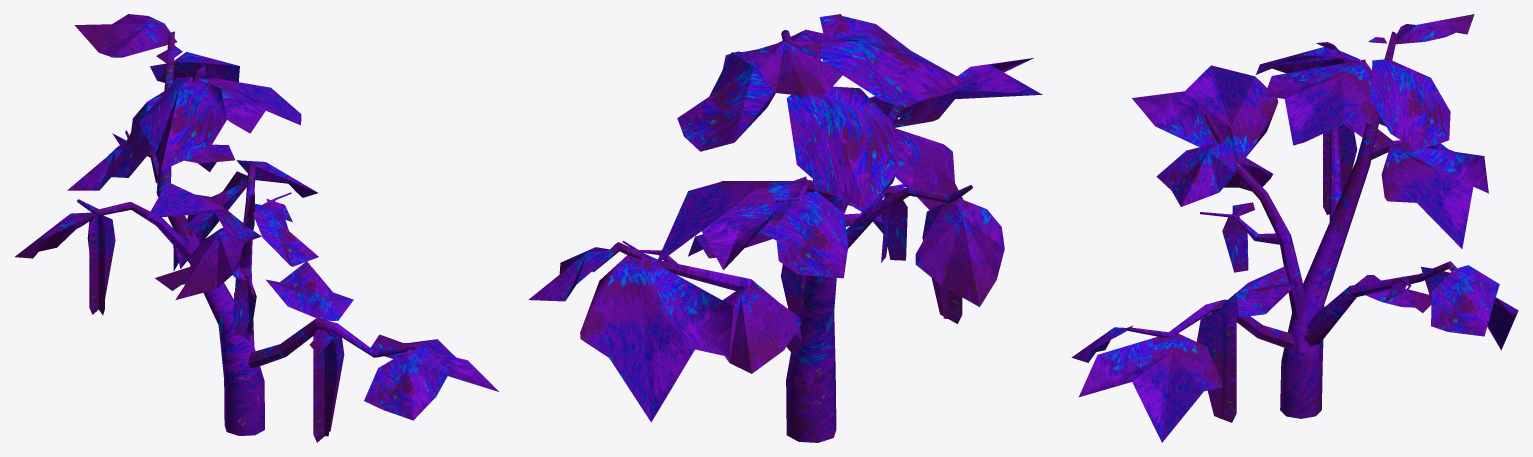
The model's file is Plant.glb.
3 renders of one model, left to right at view 1: azimuth 30°, elevation 25°; view 2: azimuth 150°, elevation 25°; view 3: azimuth 270°, elevation 25°, orthographic. The views are drawn at different scales.
Visible parts, largest first — view 1: Cylinder.004; view 2: Cylinder.004; view 3: Cylinder.004.
Boxes of the visible parts, x1,y1,x2,y2 form: Cylinder.004: (15, 14, 498, 442); Cylinder.004: (528, 14, 1042, 442); Cylinder.004: (1071, 14, 1518, 442).
Bounding box in the file's own units: 8.58 × 8.56 × 9.43.
Materials: 1 (1 with a texture image).
